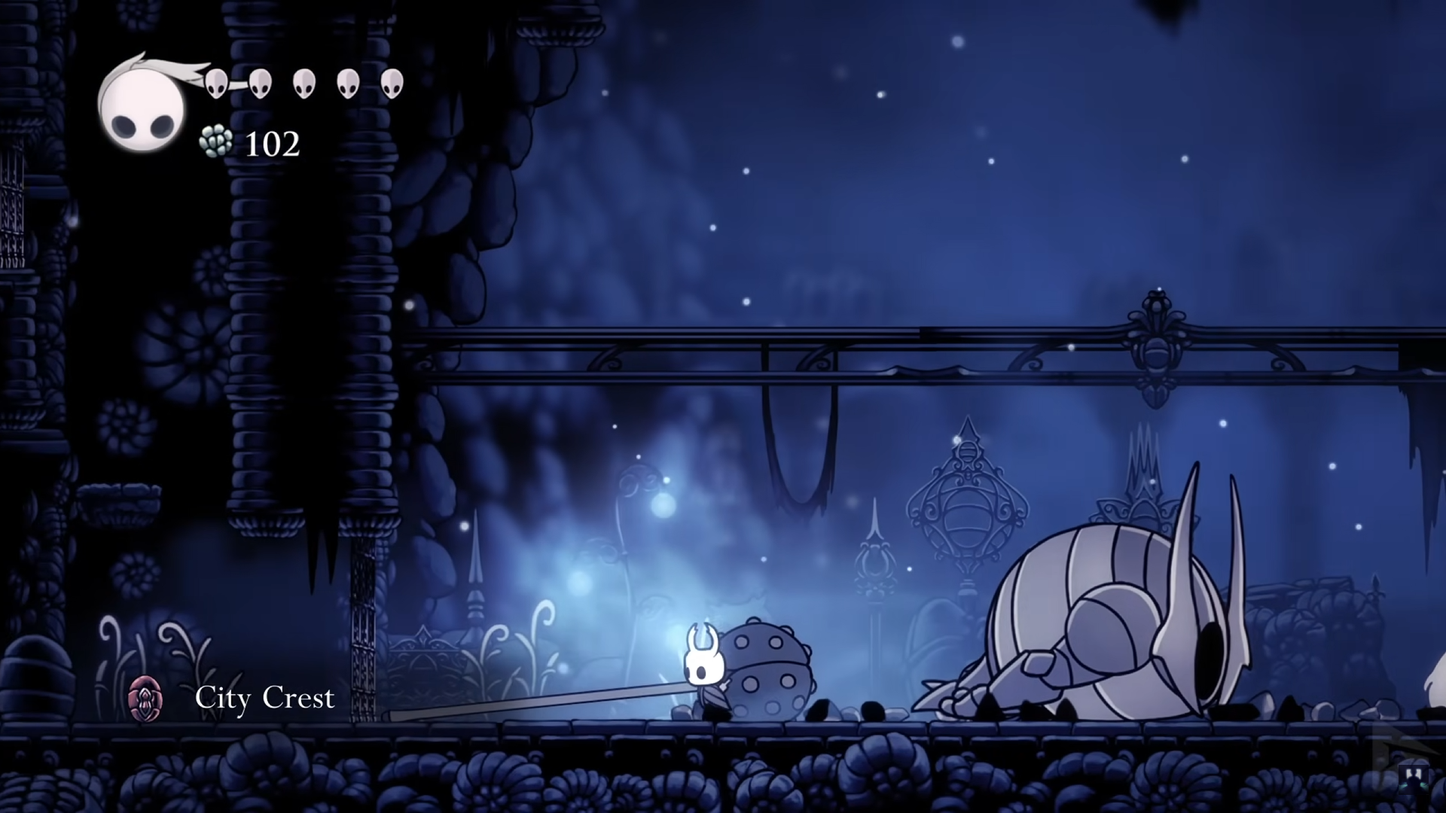HK: (678, 620, 736, 723)
